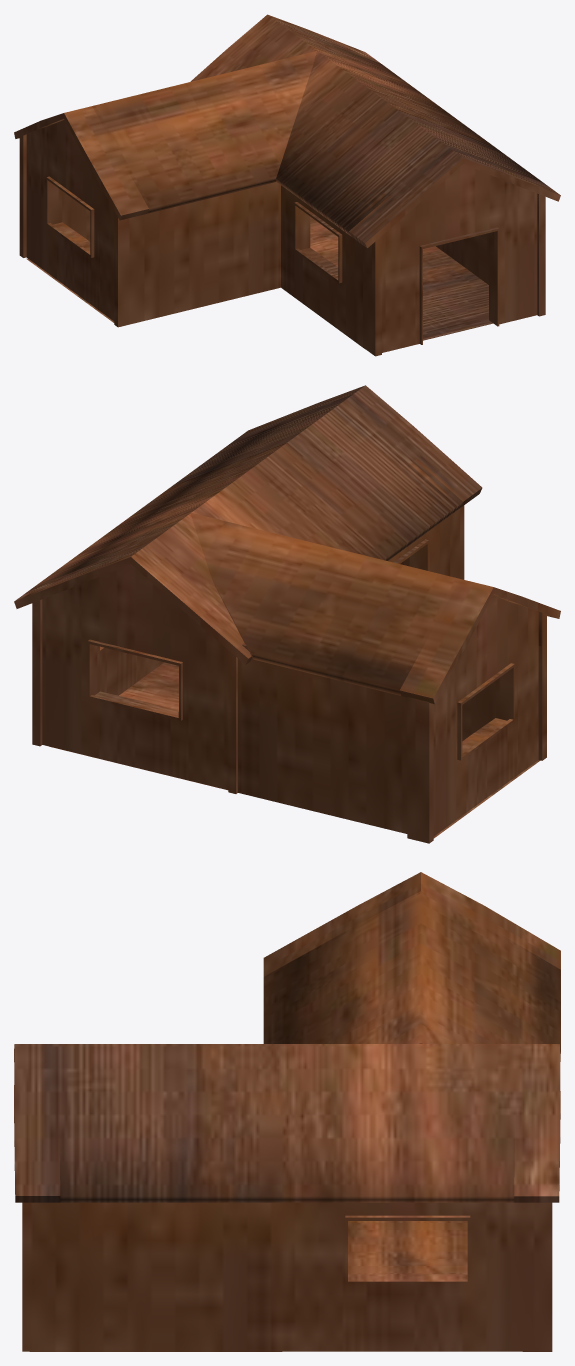
Rendered from Cabin_L.fbx.
3 views of the same model, one above another, from view 1: azimuth 30°, elevation 25°; view 2: azimuth 150°, elevation 25°; view 3: azimuth 270°, elevation 25° (orthographic). The views are drawn at different scales.
Visible parts, largest first — view 1: CabinWallPanel.002; view 2: CabinWallPanel.002; view 3: CabinWallPanel.002.
Boxes of the visible parts, x1=… form: CabinWallPanel.002: x1=14, y1=14, x2=560, y2=356; CabinWallPanel.002: x1=14, y1=385, x2=560, y2=843; CabinWallPanel.002: x1=14, y1=872, x2=560, y2=1351.
Bounding box in the file's own units: 6296 × 3091 × 6093.
